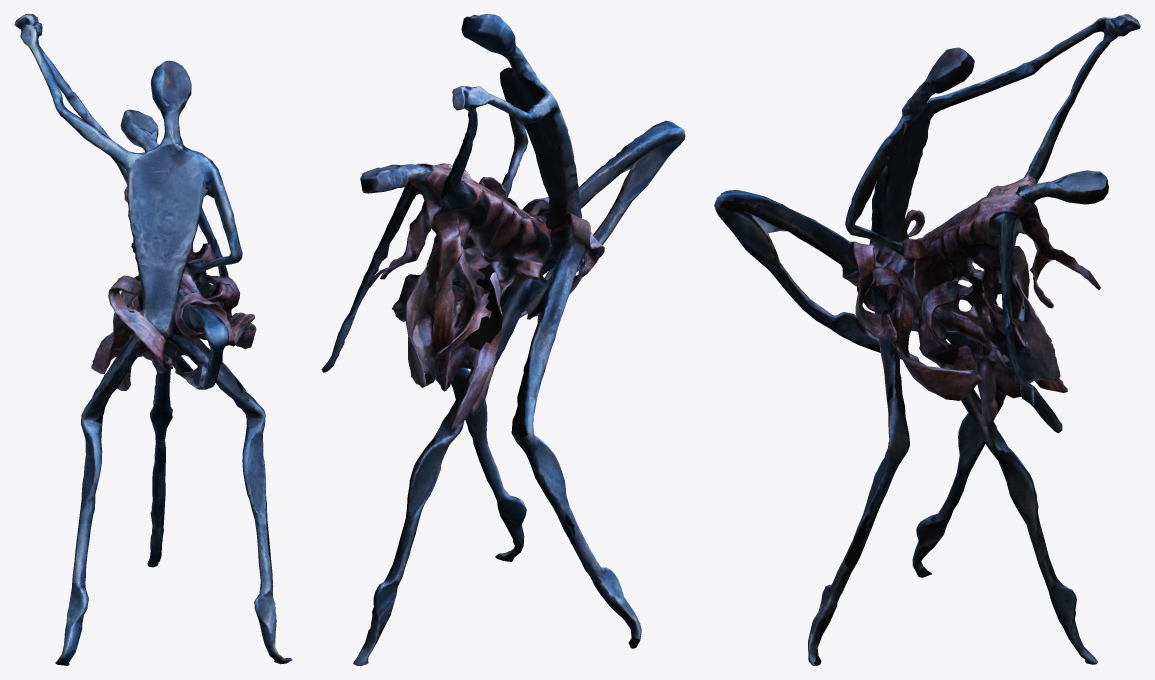
Rendered from dancers2.gltf.
3 renders of one model, left to right at view 1: azimuth 30°, elevation 25°; view 2: azimuth 150°, elevation 25°; view 3: azimuth 270°, elevation 25°, orthographic. The views are drawn at different scales.
Parts seen in each view (by area): view 1: model; view 2: model; view 3: model.
Boxes of the visible parts, bbox=[...] form: model: bbox=[14, 14, 292, 665]; model: bbox=[321, 14, 685, 665]; model: bbox=[714, 14, 1140, 665].
Size of the model in its own units: 0.1854 by 0.4443 by 0.2903.
1 material, 1 textured.
